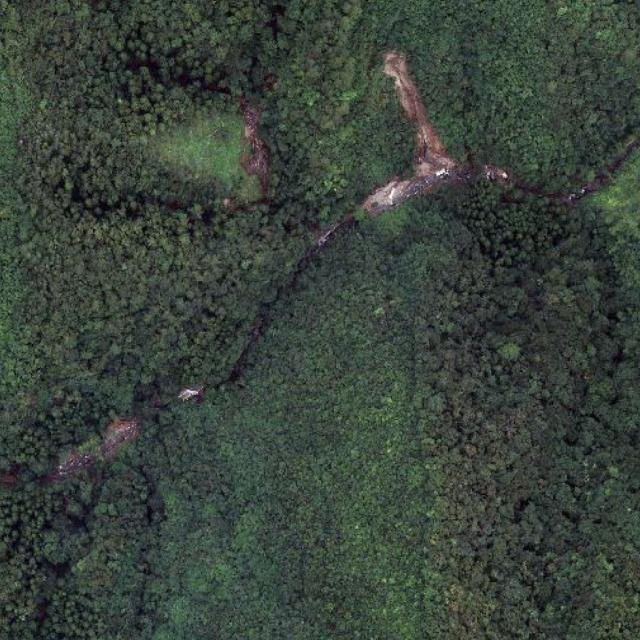landslide: (362, 50, 479, 215), (49, 419, 141, 481), (240, 99, 270, 196), (480, 164, 511, 181)
